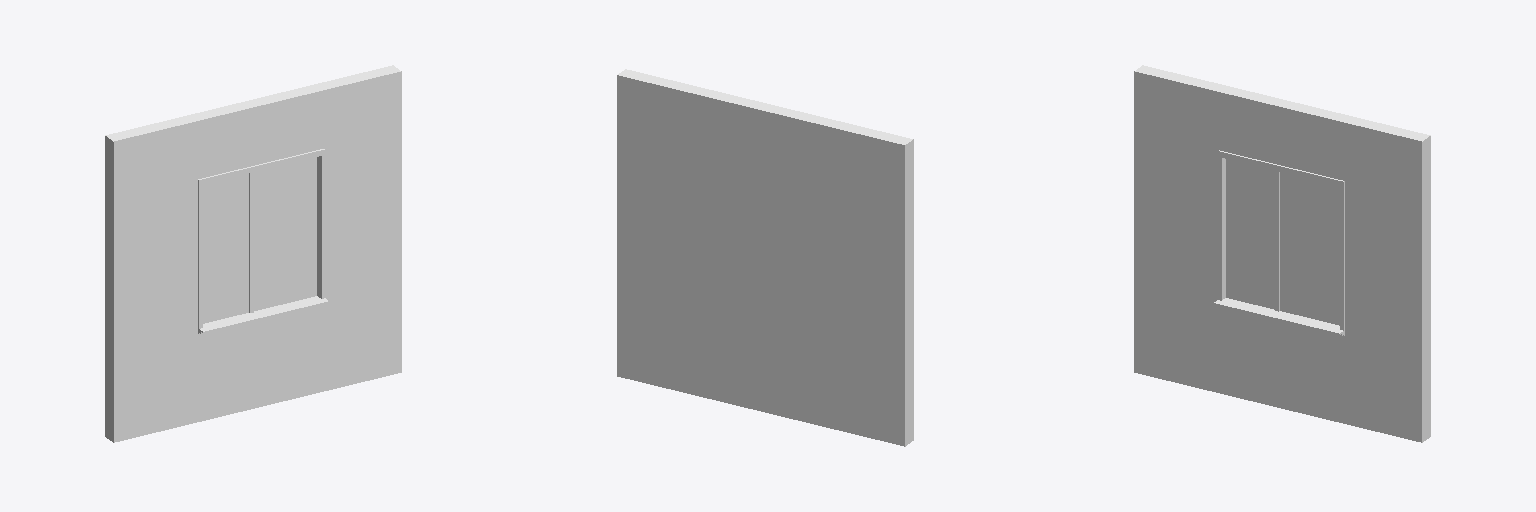
File: wallWithWindow3-2-lod1.obj
The picture shows the model from 3 angles: view 1: azimuth 30°, elevation 25°; view 2: azimuth 150°, elevation 25°; view 3: azimuth 330°, elevation 25°; orthographic projection.
Visible parts, largest first — view 1: lod1; view 2: lod1; view 3: lod1.
Boxes of the visible parts, <box> form: lod1: <box>105,65,401,442</box>; lod1: <box>617,69,913,446</box>; lod1: <box>1134,65,1430,442</box>.
Bounding box in the file's own units: 16 × 16 × 1.3.